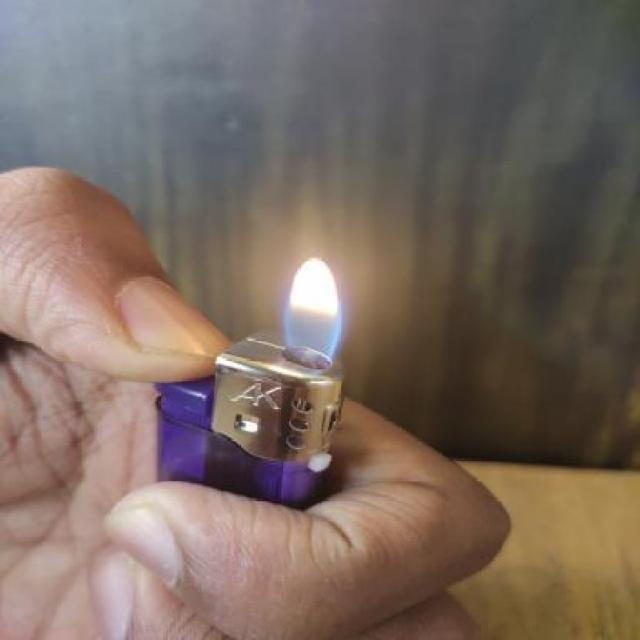fire: (282, 258, 340, 362)
